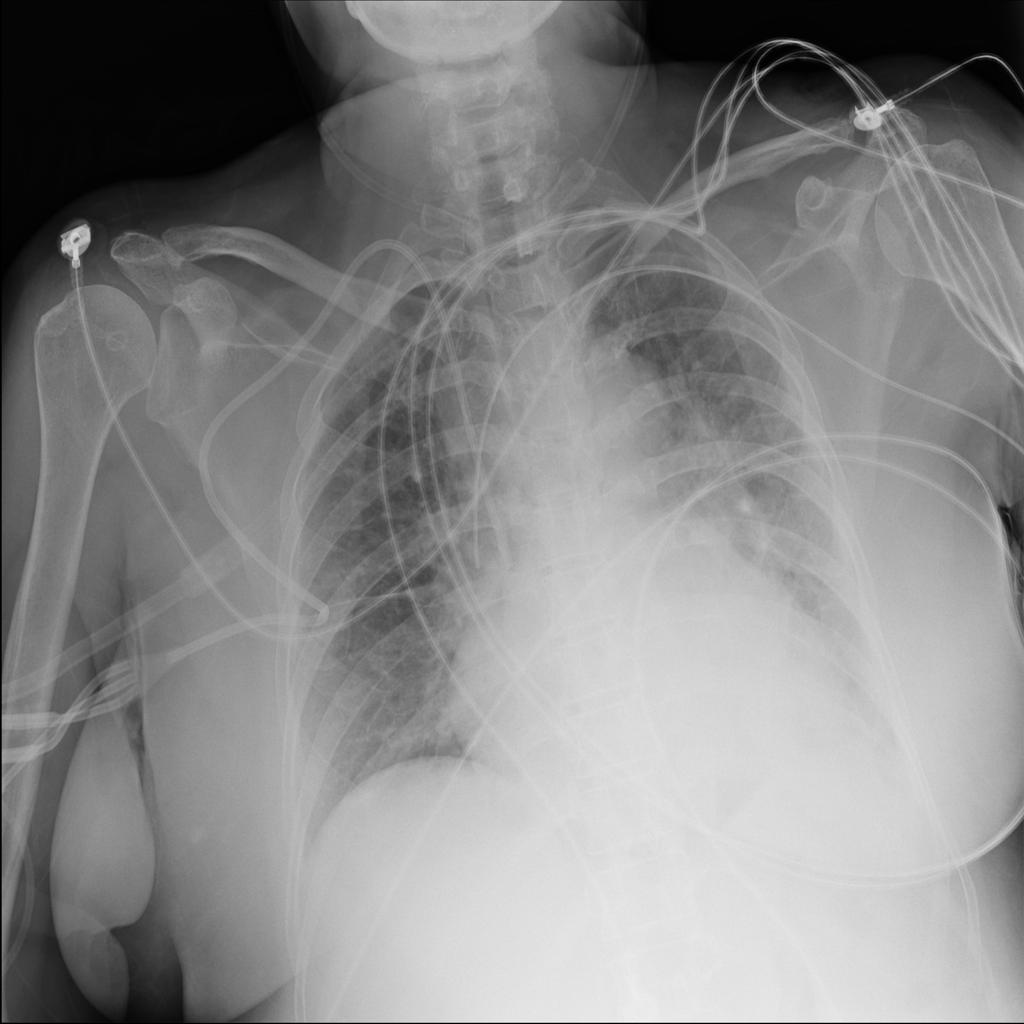Cardiomegaly: (394, 479, 885, 835)
